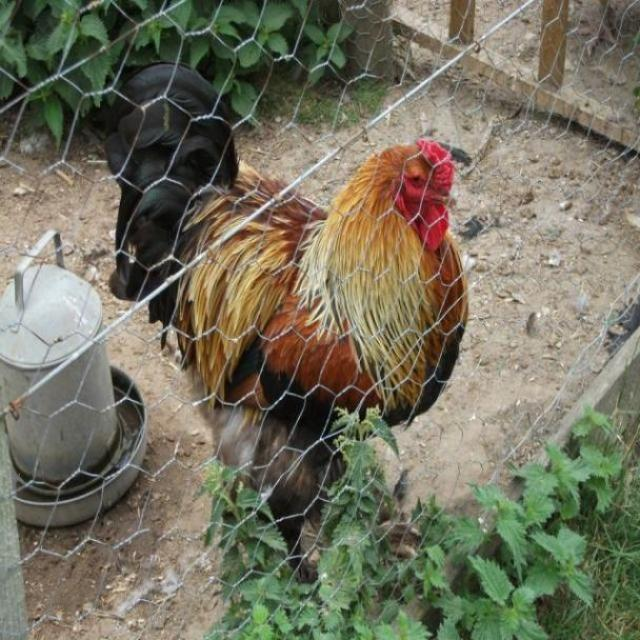Chicken: (98, 50, 469, 552)
